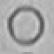no answer: (5, 5, 45, 48)
